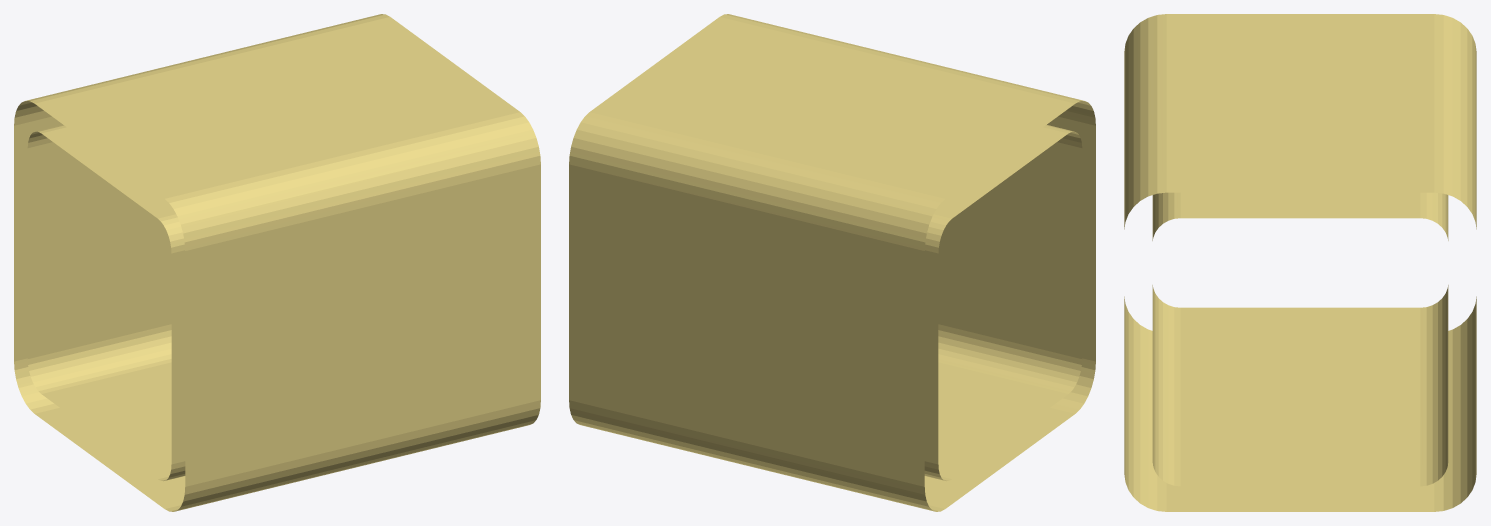
Rendered from RailLeft_07.obj.
3 renders of one model, left to right at view 1: azimuth 30°, elevation 25°; view 2: azimuth 150°, elevation 25°; view 3: azimuth 270°, elevation 25°, orthographic. The views are drawn at different scales.
Parts seen in each view (by area): view 1: RailLeft_07_14; view 2: RailLeft_07_14; view 3: RailLeft_07_14.
Part boxes in pixels (x1,y1,x2,y2): RailLeft_07_14: (14,14,540,511); RailLeft_07_14: (569,14,1095,511); RailLeft_07_14: (1124,14,1476,511).
Bounding box in the file's own units: 0.03 × 0.025 × 0.025.
